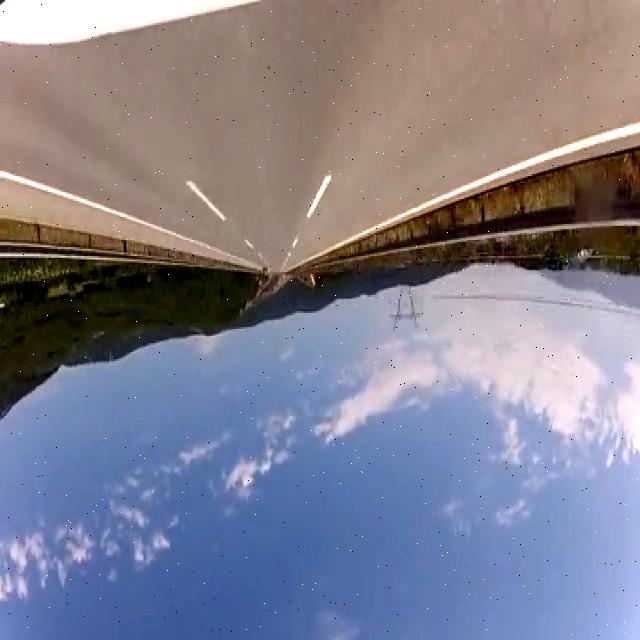lane: (326, 121, 640, 252), (0, 170, 238, 257), (188, 180, 226, 220), (307, 173, 331, 218)
road: (2, 2, 638, 271)
